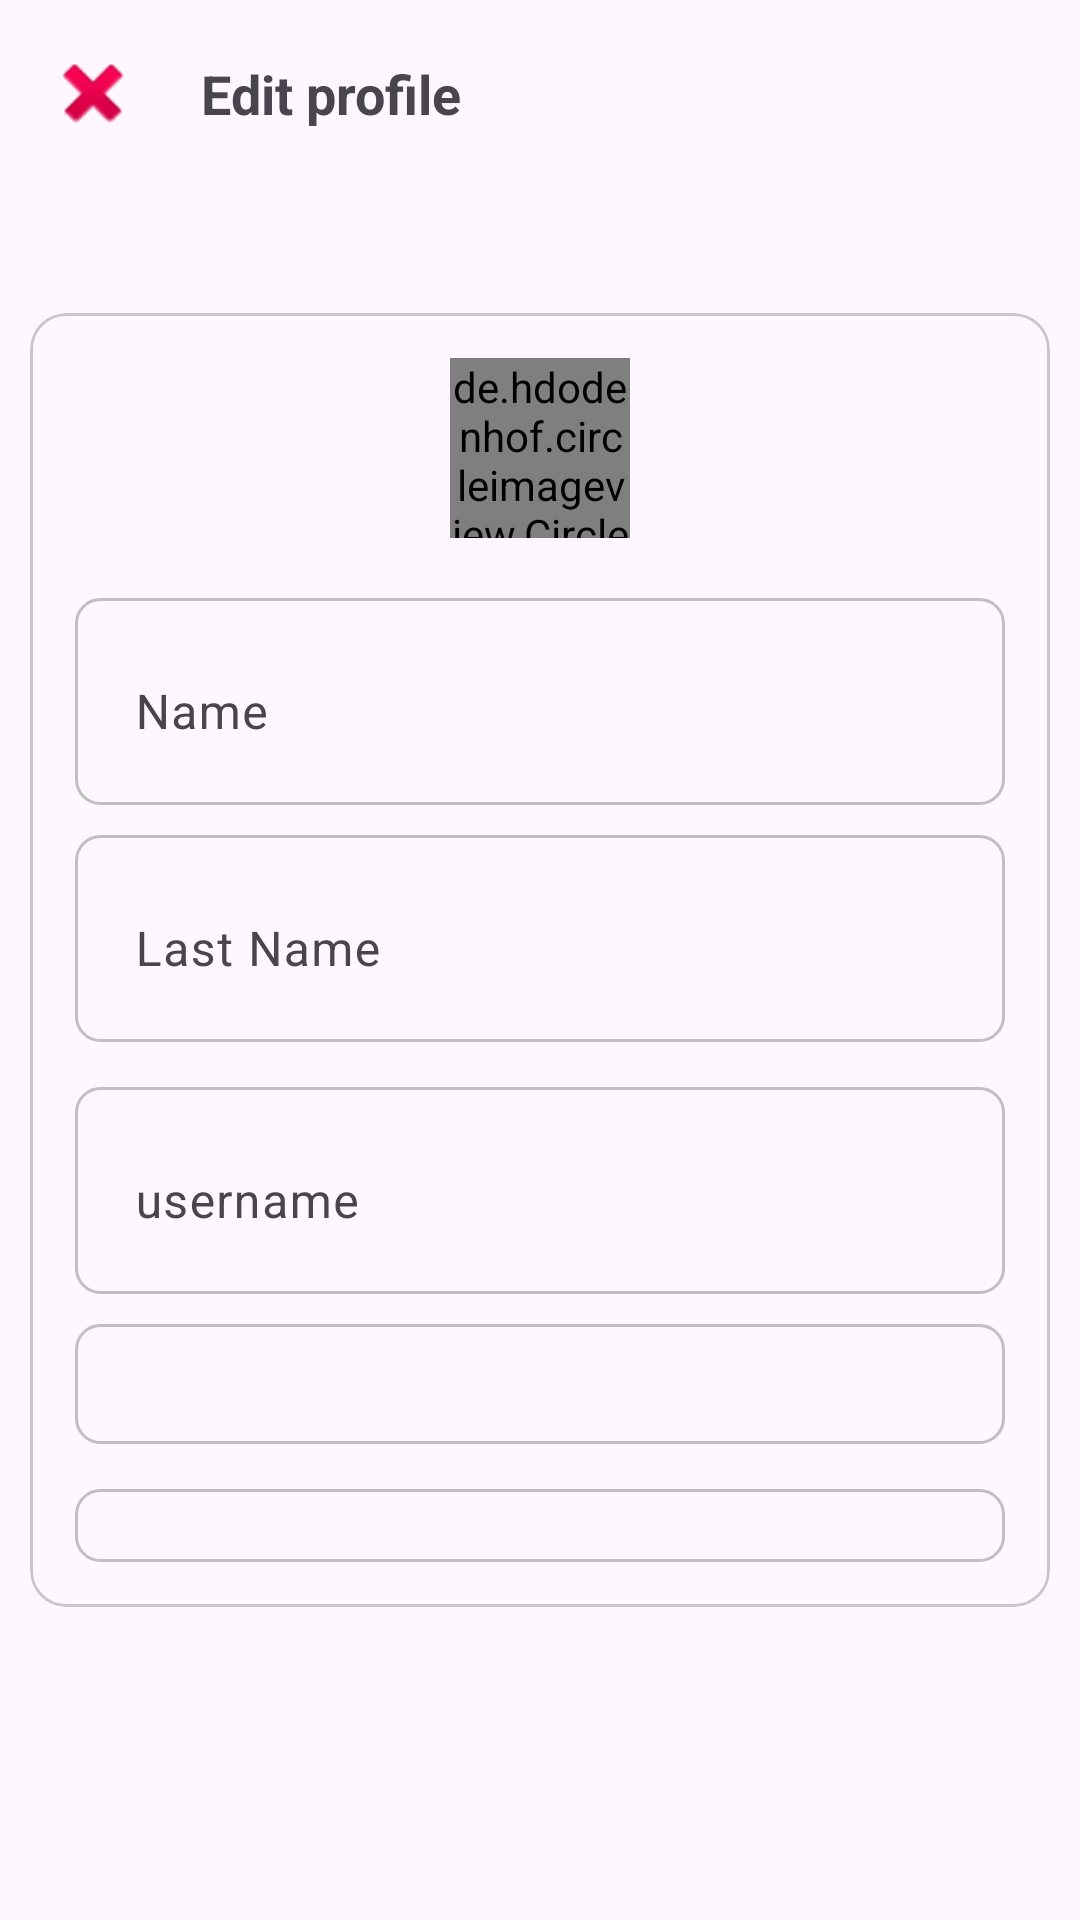

Locate icon controls on the screen. Image size 1080*1920, boxes as BBox(x1, y1, x2, y2).
delete: BBox(62, 64, 124, 123)
